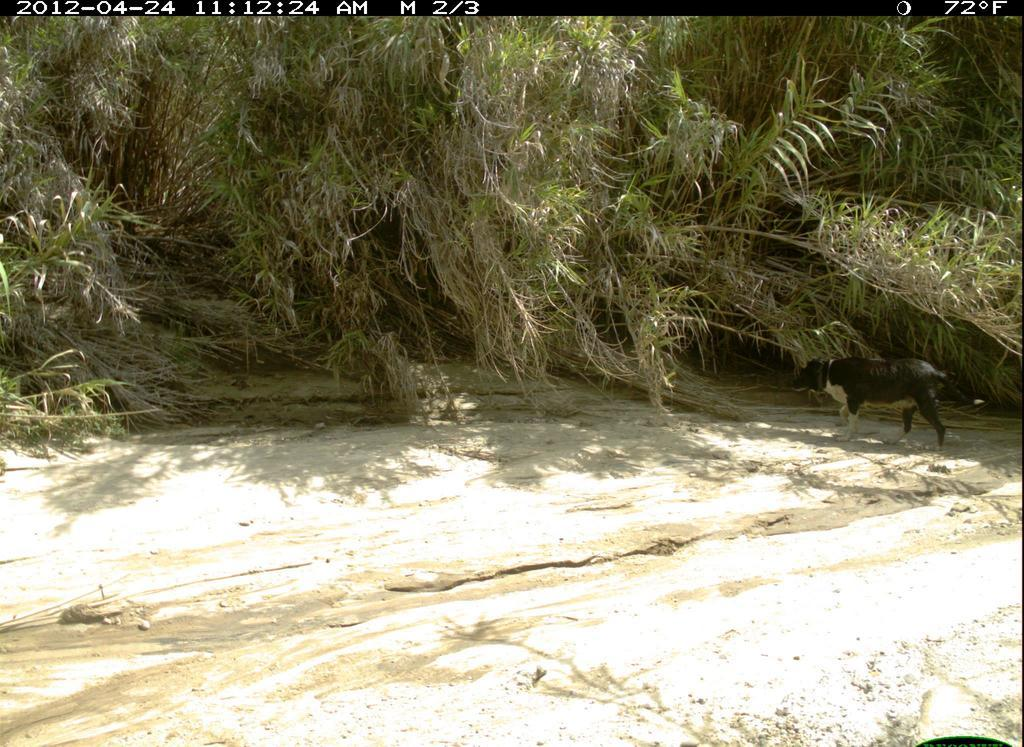dog: (790, 353, 967, 456)
